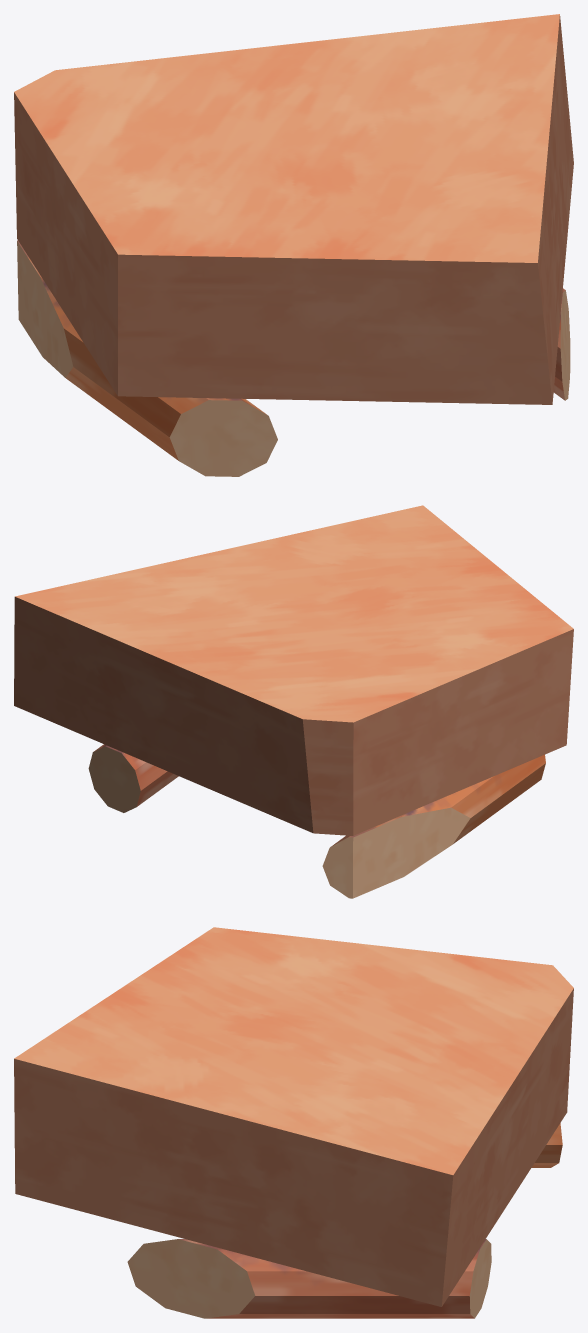
File: roof_s02.fbx
3 renders of one model, top to bottom at view 1: azimuth 30°, elevation 25°; view 2: azimuth 150°, elevation 25°; view 3: azimuth 270°, elevation 25°, orthographic. The views are drawn at different scales.
Parts seen in each view (by area): view 1: roof_s02; view 2: roof_s02; view 3: roof_s02.
Part boxes in pixels (x1,y1,x2,y2): roof_s02: [14, 14, 573, 476]; roof_s02: [14, 505, 573, 898]; roof_s02: [14, 927, 573, 1318].
Bounding box in the file's own units: 4.44 × 1.65 × 4.18.
